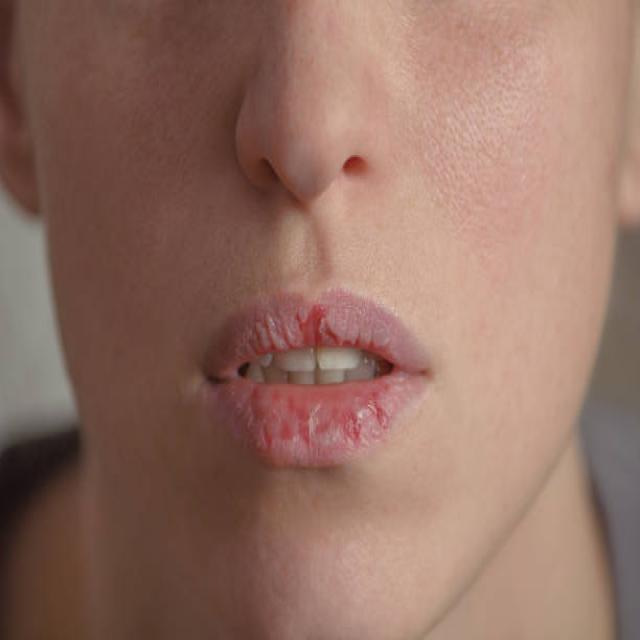Dry-Skin: (209, 14, 401, 235), (249, 462, 366, 636), (73, 46, 172, 240), (445, 28, 546, 210), (109, 362, 201, 524), (506, 235, 562, 368), (481, 332, 557, 422)
